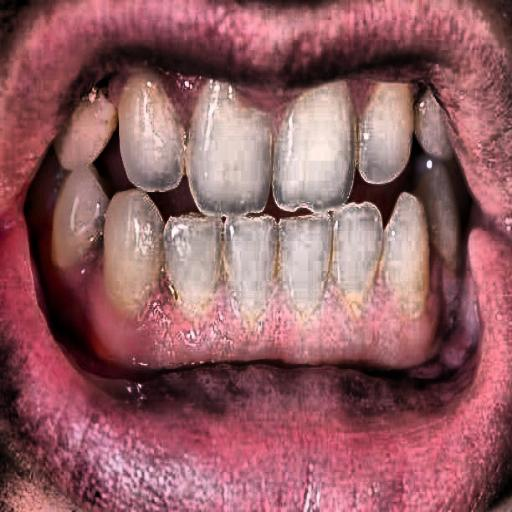Gingivitis: (76, 257, 454, 378)
